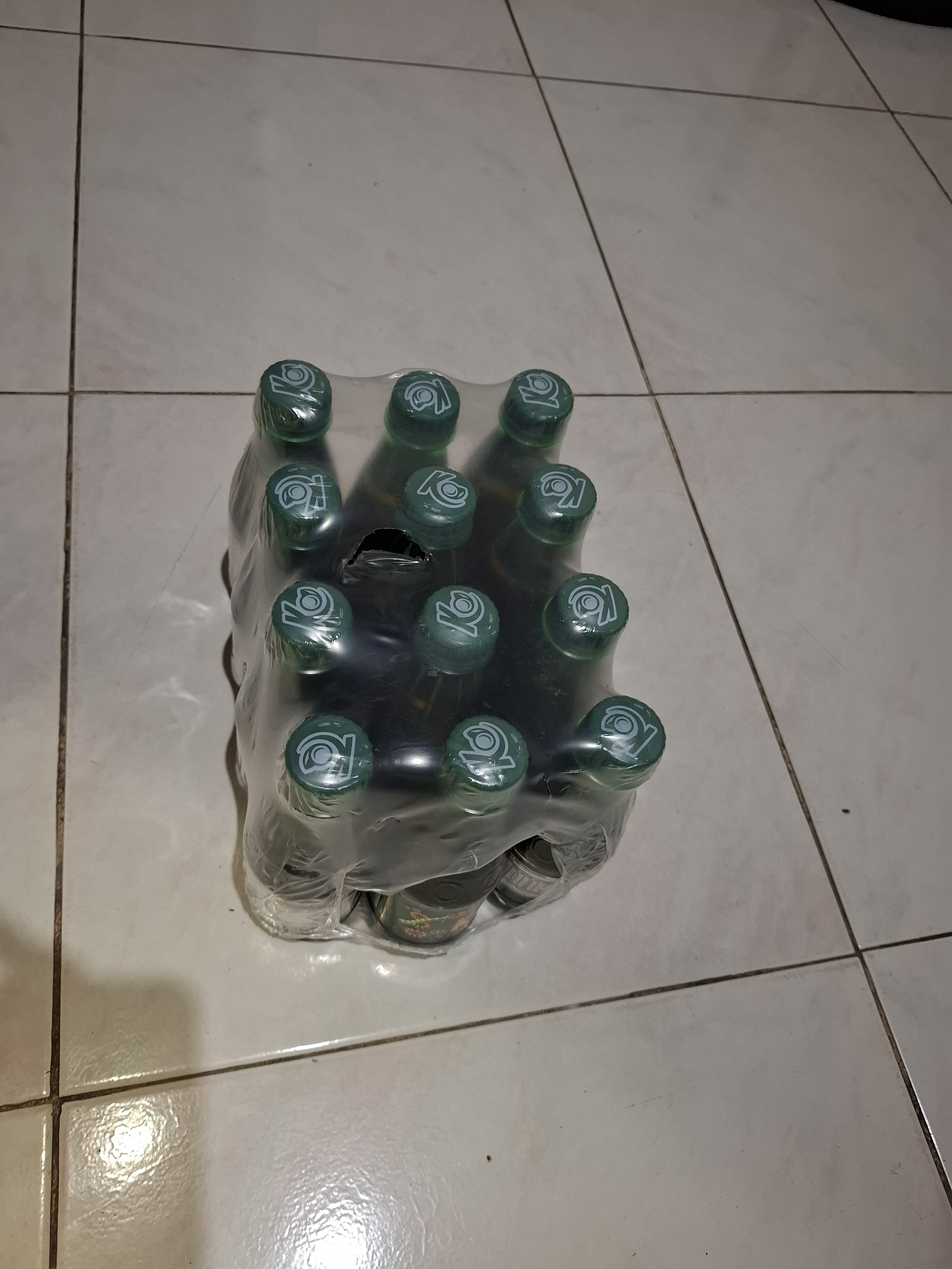Tampa Refrigerante Kuat: (577, 698, 667, 788), (282, 712, 367, 804), (442, 712, 527, 801), (422, 577, 504, 666), (543, 563, 625, 650), (266, 574, 348, 661), (263, 459, 344, 538), (257, 353, 331, 432), (387, 364, 459, 445), (403, 457, 479, 530), (523, 453, 597, 524), (504, 365, 574, 429)
